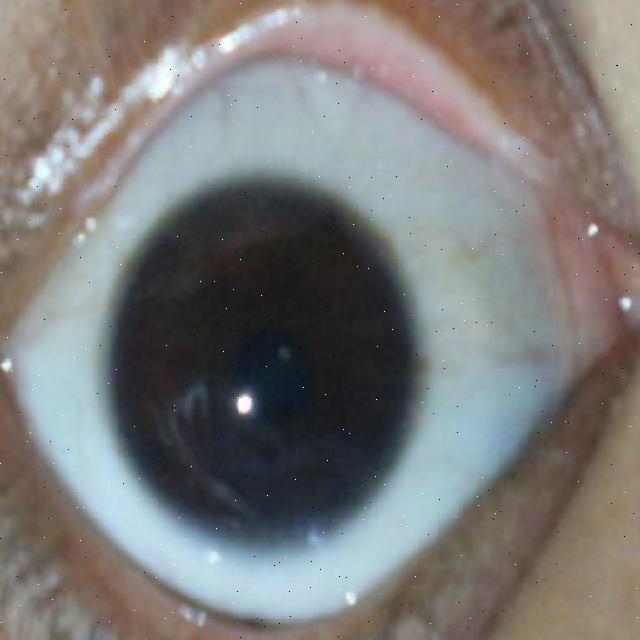Normal: (107, 182, 413, 557)
